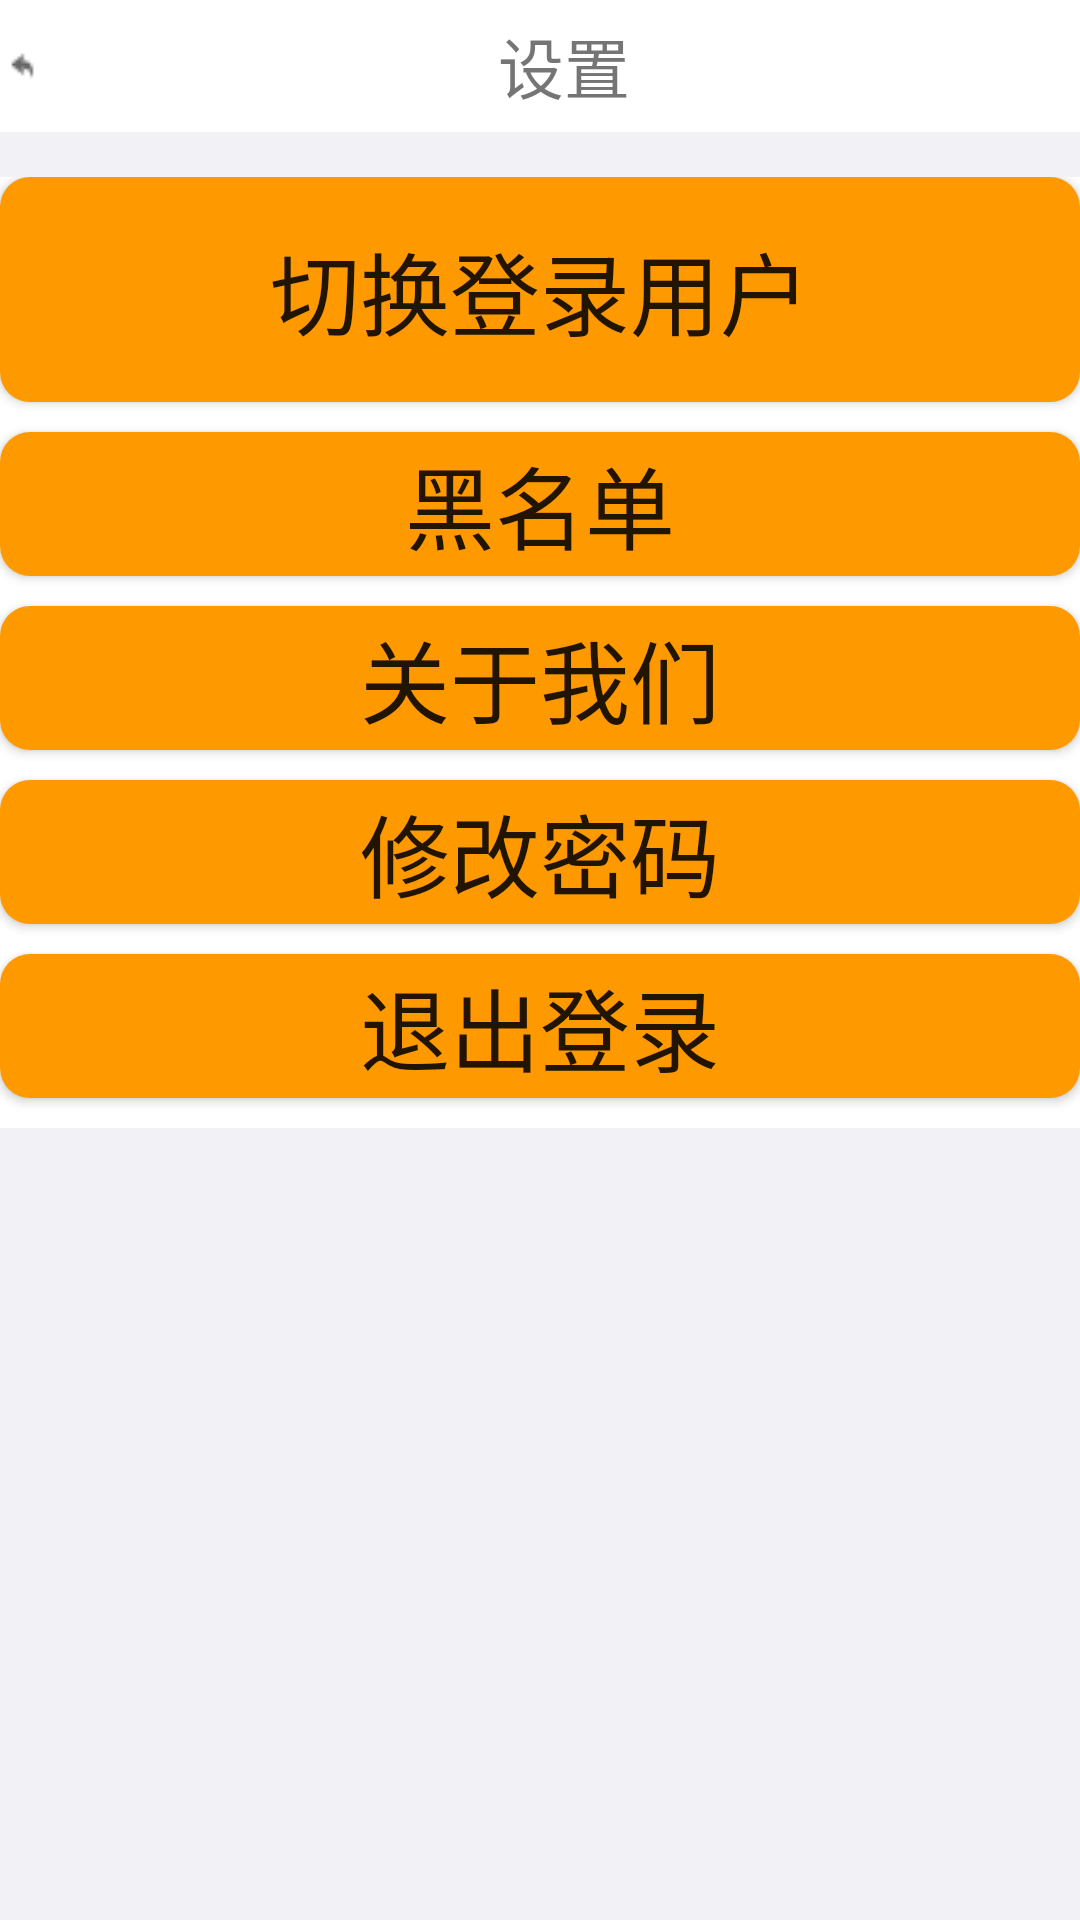

Where icons sit on this 1080px×1920px app screen, as [x1, y1, x2, y2]:
fanhui: [11, 53, 34, 78]
